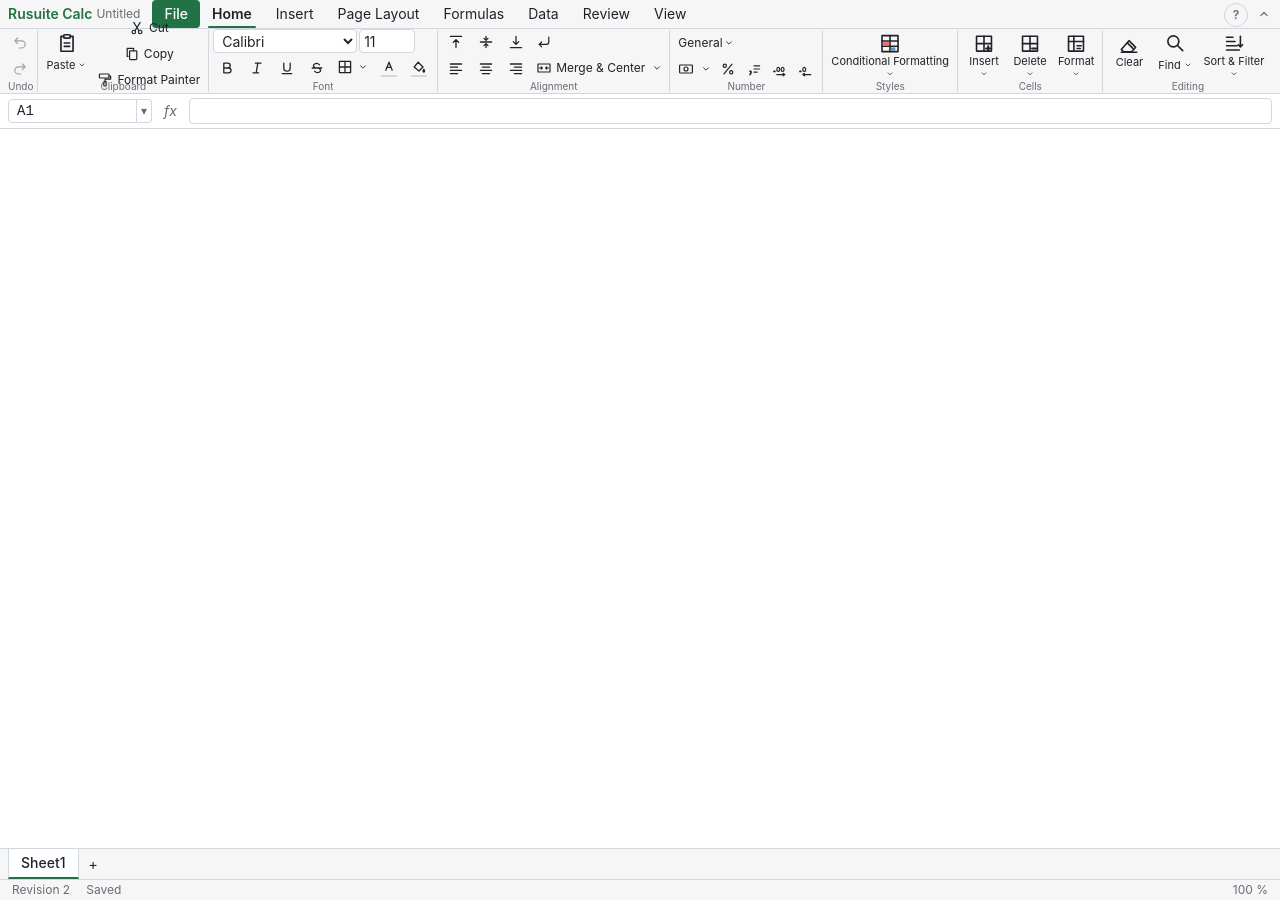
Scenario: Insert / Delete Cells dialogs › Ctrl++ on a cell offers Shift cells right and sends InsertCells
The image size is (1280, 900).
Expected: the tab "Sheet1" is shown, [8,849,78,879]
Press + in the table with test id "grid"
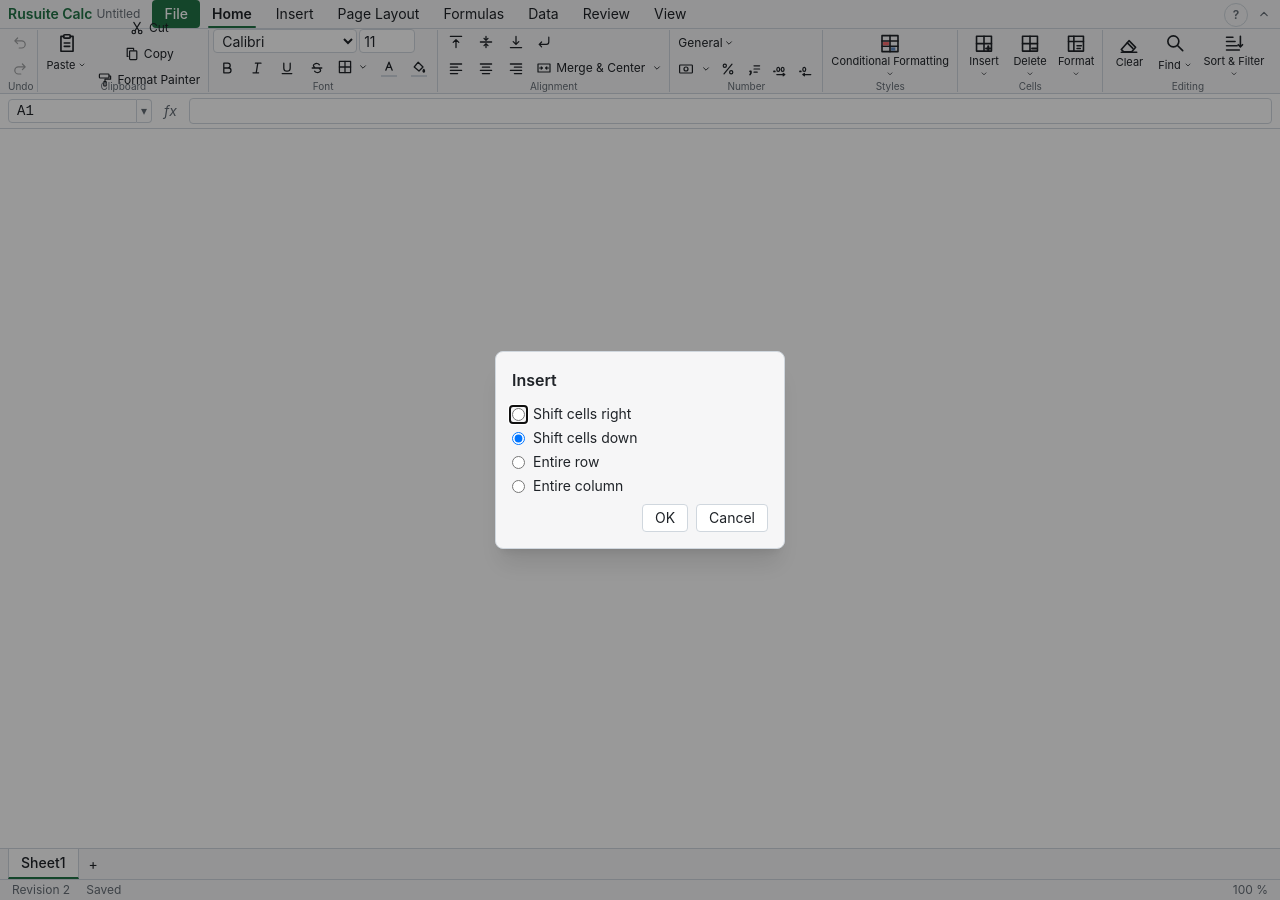
Now the radio button labelled "Shift cells down" is checked, box [512,432,525,444]
Click the radio button labelled "Shift cells right": (518, 414) [512,408,525,420]
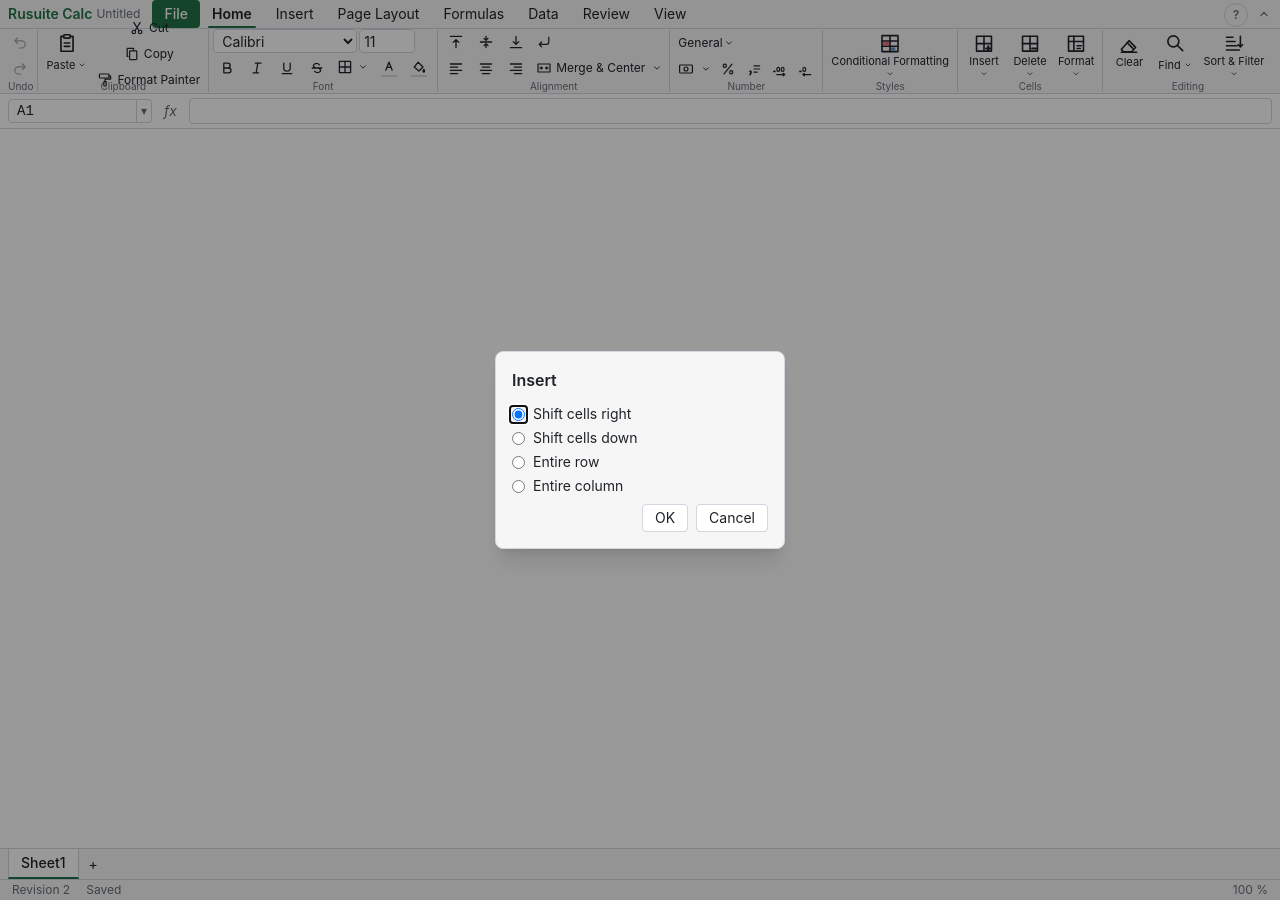
Submit the form, box [512,404,768,532]
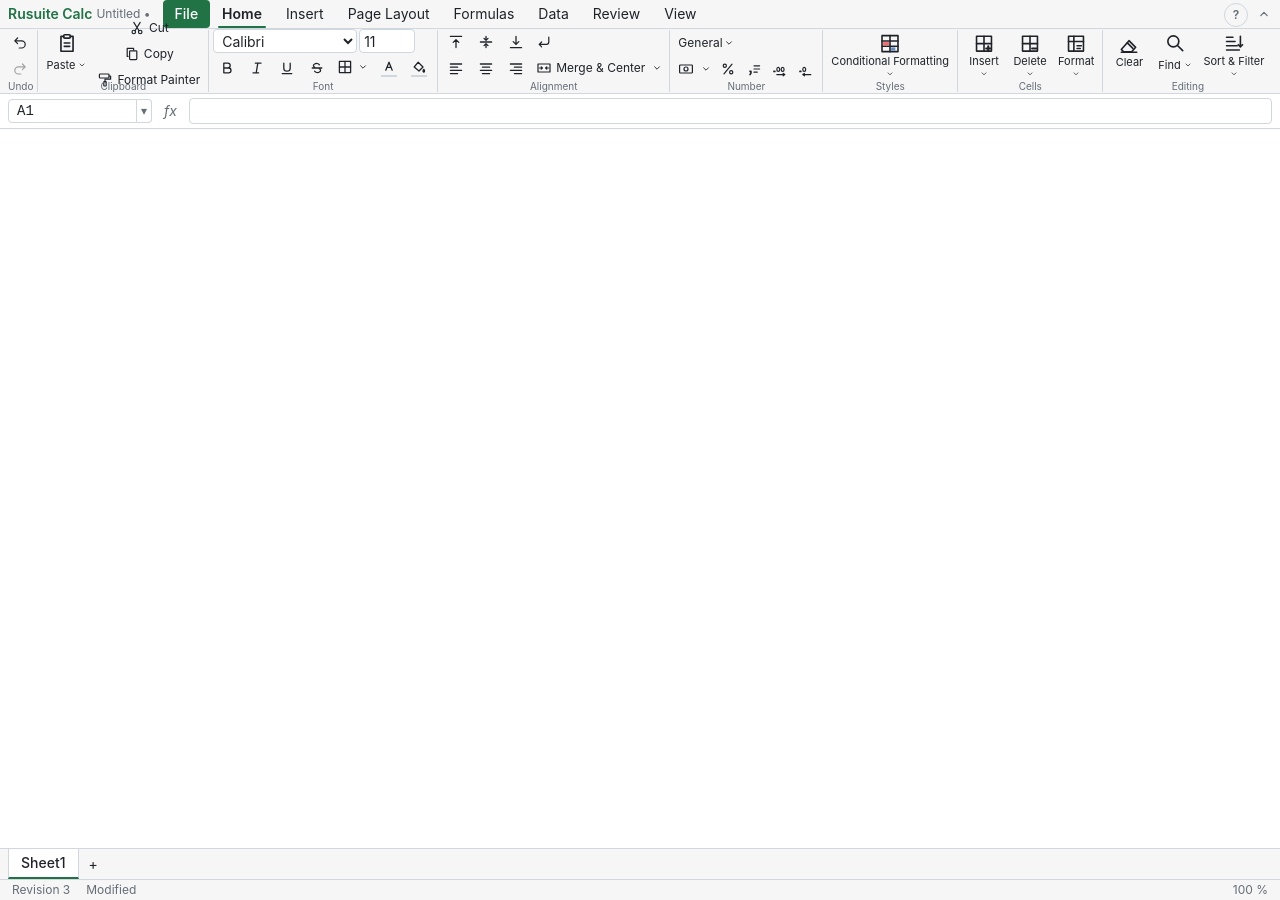
Now the dialog is gone
